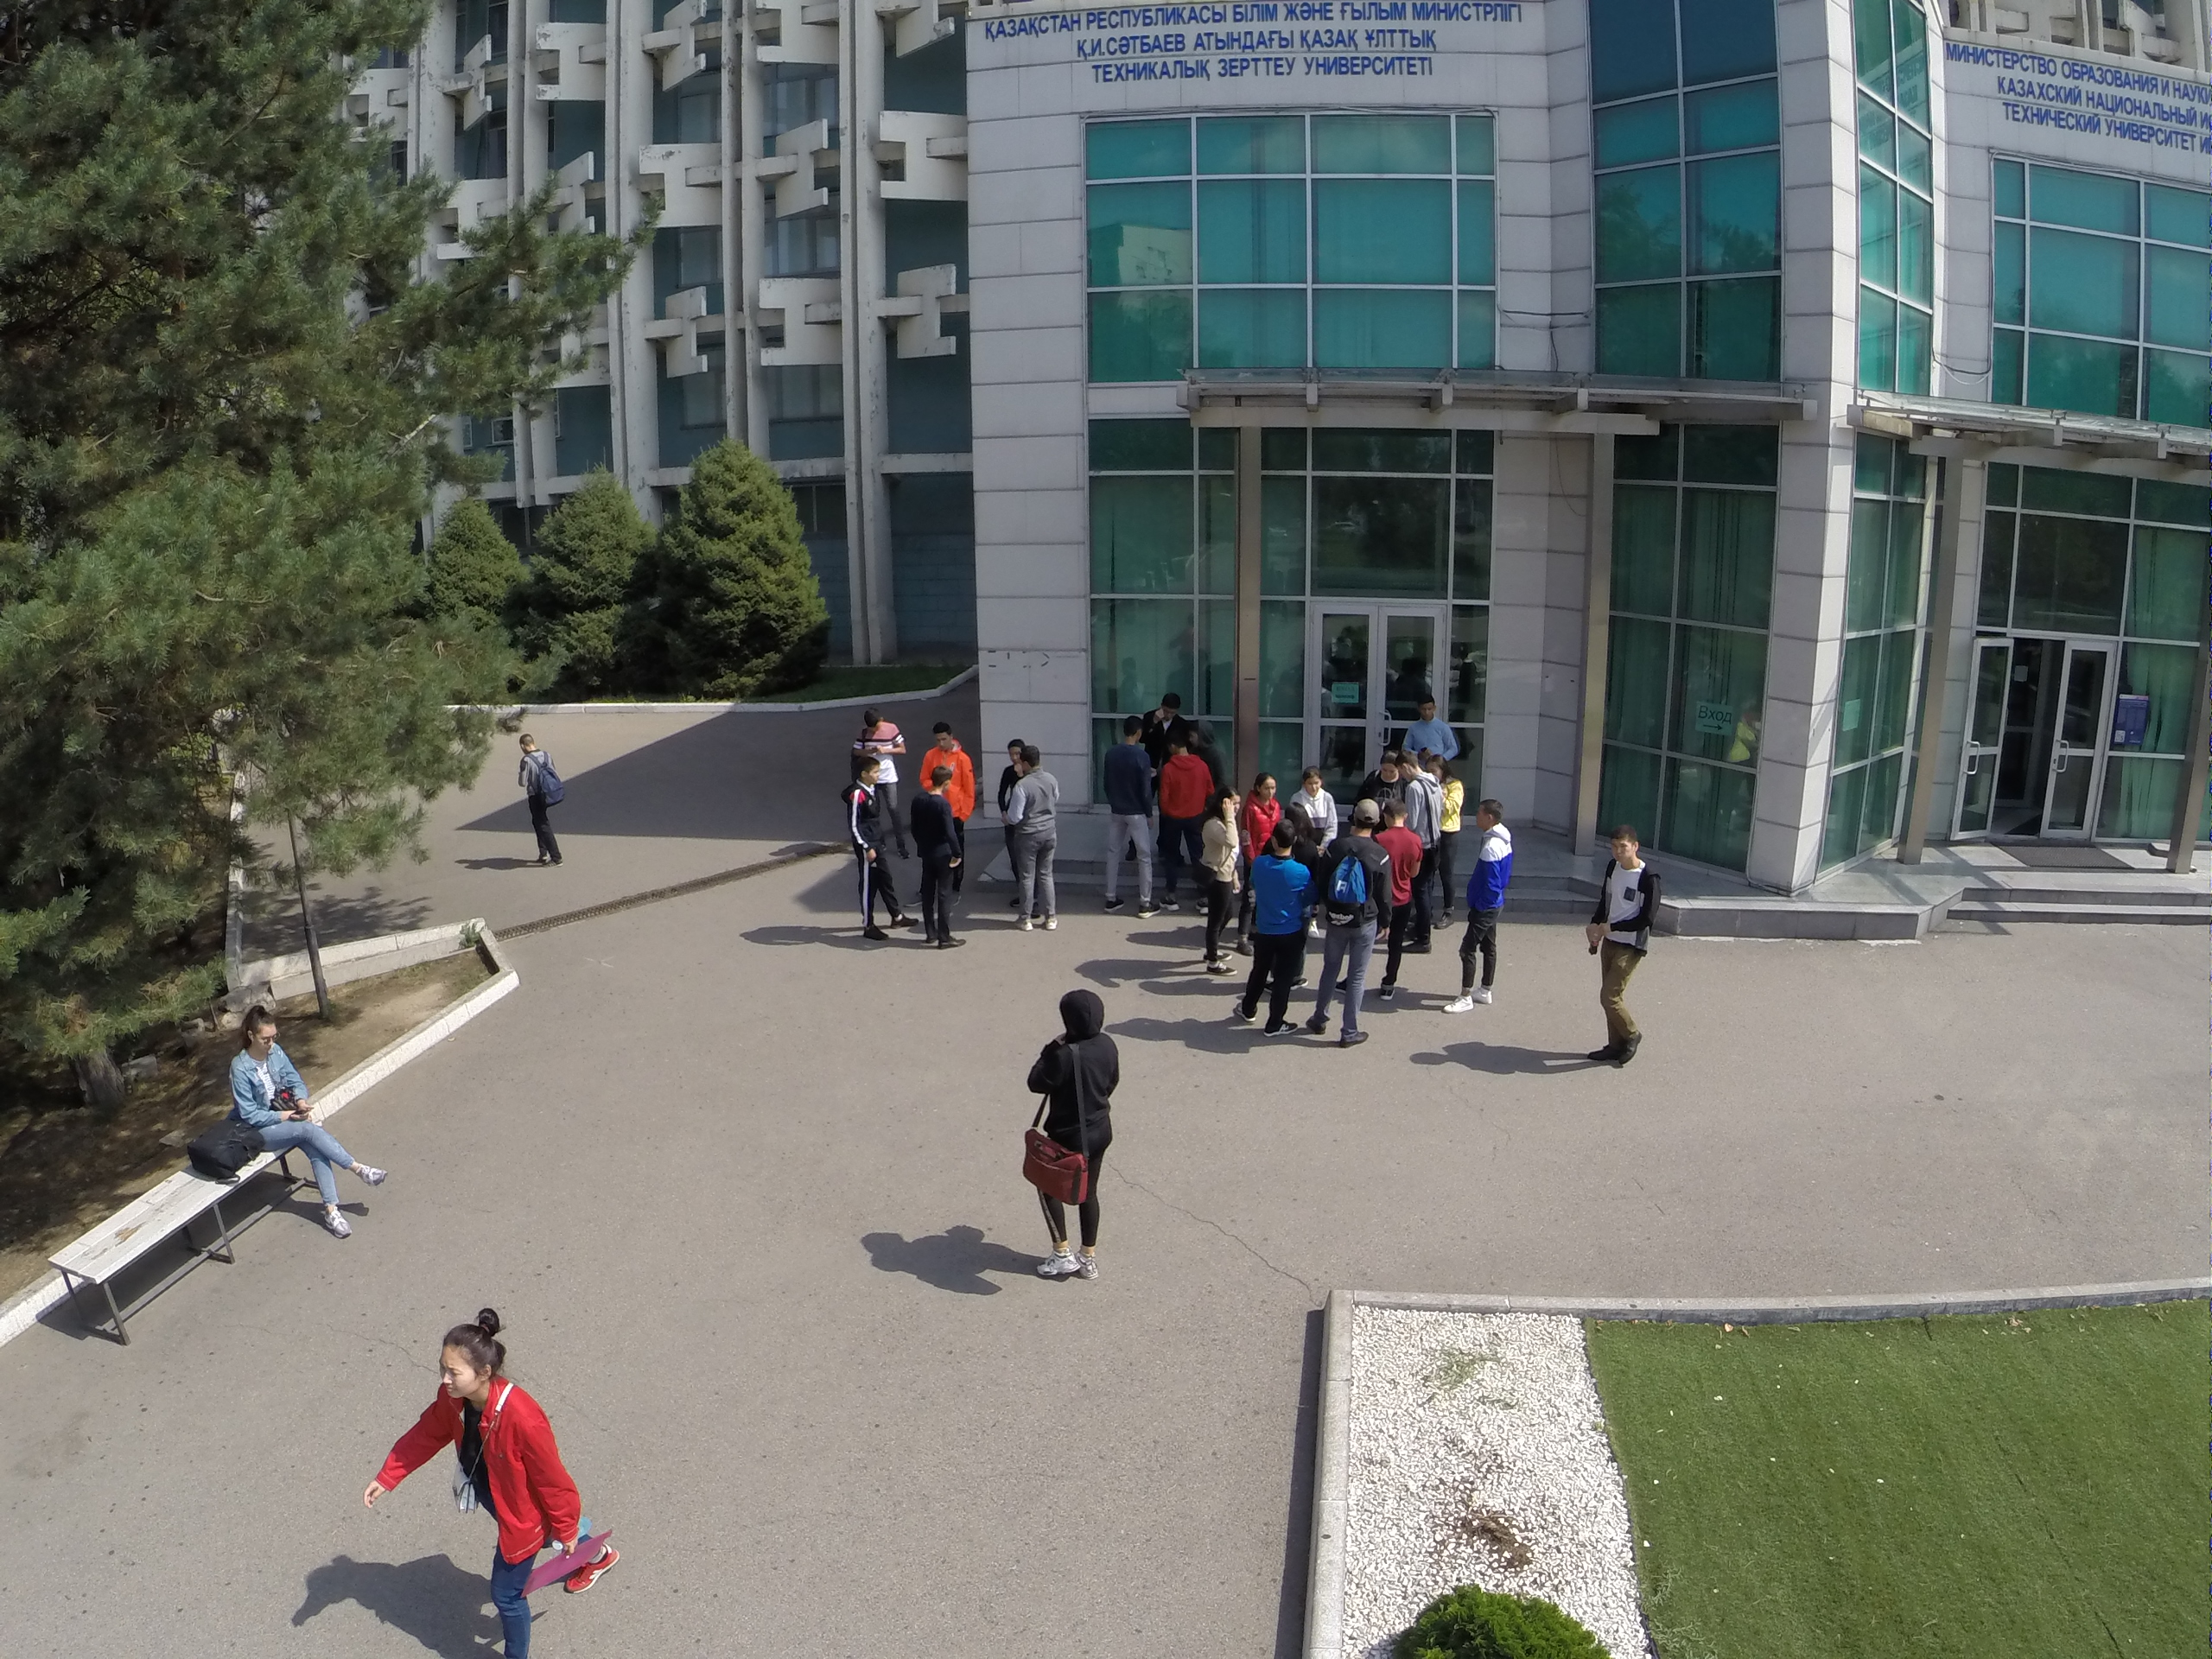person: (344, 1300, 629, 1657), (227, 995, 377, 1245), (1014, 969, 1125, 1300), (1580, 827, 1656, 1077), (1231, 820, 1310, 1052), (1452, 793, 1515, 1024), (840, 760, 914, 947), (1325, 806, 1376, 1050), (914, 763, 972, 963), (511, 728, 576, 874), (1111, 717, 1157, 923), (1164, 727, 1212, 913), (1396, 753, 1437, 961), (1018, 753, 1061, 936), (867, 707, 909, 858), (1208, 797, 1243, 981), (1381, 801, 1407, 997), (927, 720, 972, 829), (1145, 689, 1188, 760), (1402, 697, 1449, 762), (1243, 777, 1281, 849)
